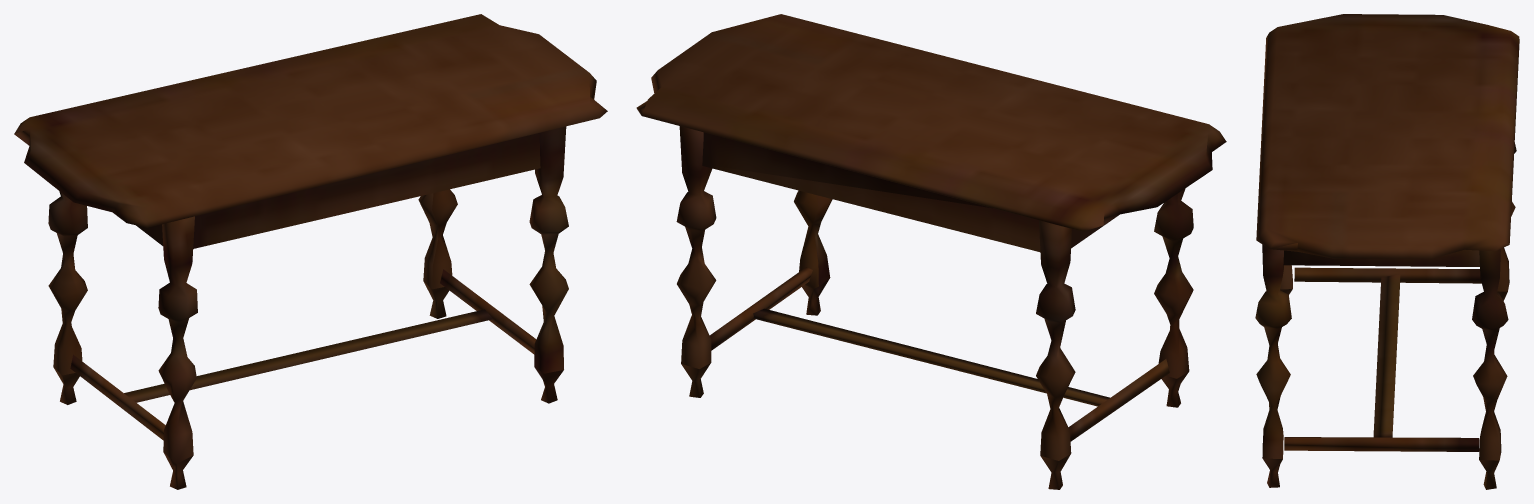
File: TableWatlas.fbx
3 renders of one model, left to right at view 1: azimuth 30°, elevation 25°; view 2: azimuth 150°, elevation 25°; view 3: azimuth 270°, elevation 25°, orthographic. The views are drawn at different scales.
Parts seen in each view (by area): view 1: Table; view 2: Table; view 3: Table.
Boxes of the visible parts, x1,y1,x2,y2 form: Table: [14, 14, 607, 489]; Table: [636, 14, 1226, 489]; Table: [1255, 14, 1519, 489].
Size of the model in its own units: 150 by 80 by 70.
1 material, 1 textured.
